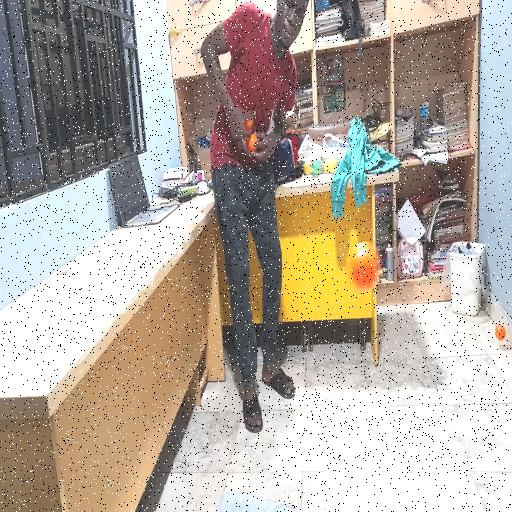plastic-ball: (346, 237, 381, 290)
